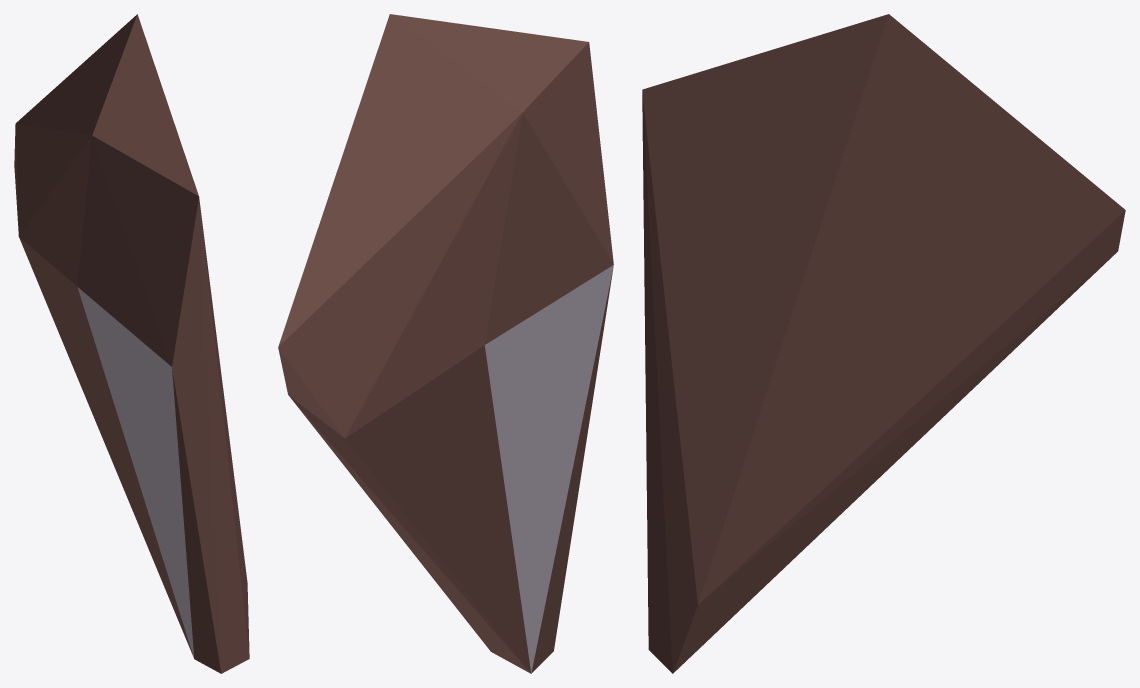
File: Willow_Dead_Snow_1.lod4.glb
The picture shows the model from 3 angles, left to right: view 1: azimuth 30°, elevation 25°; view 2: azimuth 150°, elevation 25°; view 3: azimuth 270°, elevation 25°; orthographic projection. The views are drawn at different scales.
Visible parts, largest first — view 1: Willow_Dead_Snow_1; view 2: Willow_Dead_Snow_1; view 3: Willow_Dead_Snow_1.
Part boxes in pixels (x1,y1,x2,y2): Willow_Dead_Snow_1: (14, 14, 249, 673); Willow_Dead_Snow_1: (278, 14, 613, 673); Willow_Dead_Snow_1: (642, 14, 1125, 673).
Bounding box in the file's own units: 0.4921 × 2.71 × 1.82.
